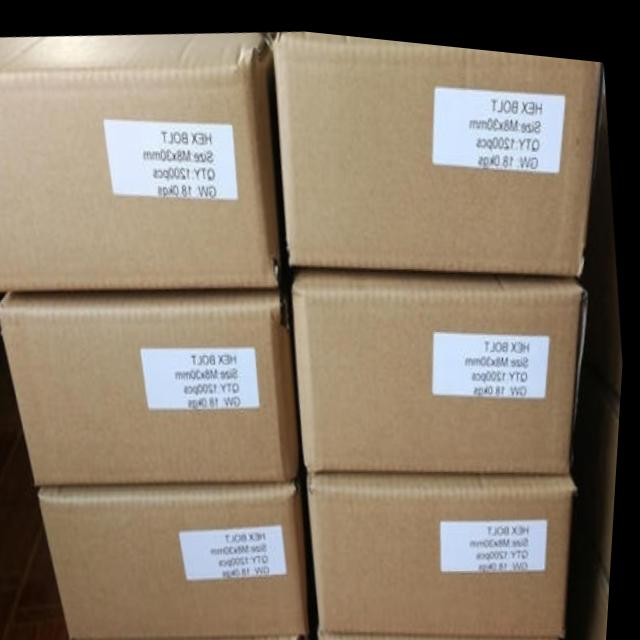box: (272, 25, 603, 262), (0, 25, 288, 290), (0, 280, 305, 483), (295, 258, 591, 464), (43, 471, 316, 635), (311, 460, 581, 624), (325, 623, 566, 640), (610, 377, 625, 568), (76, 628, 309, 640), (595, 554, 616, 640)
